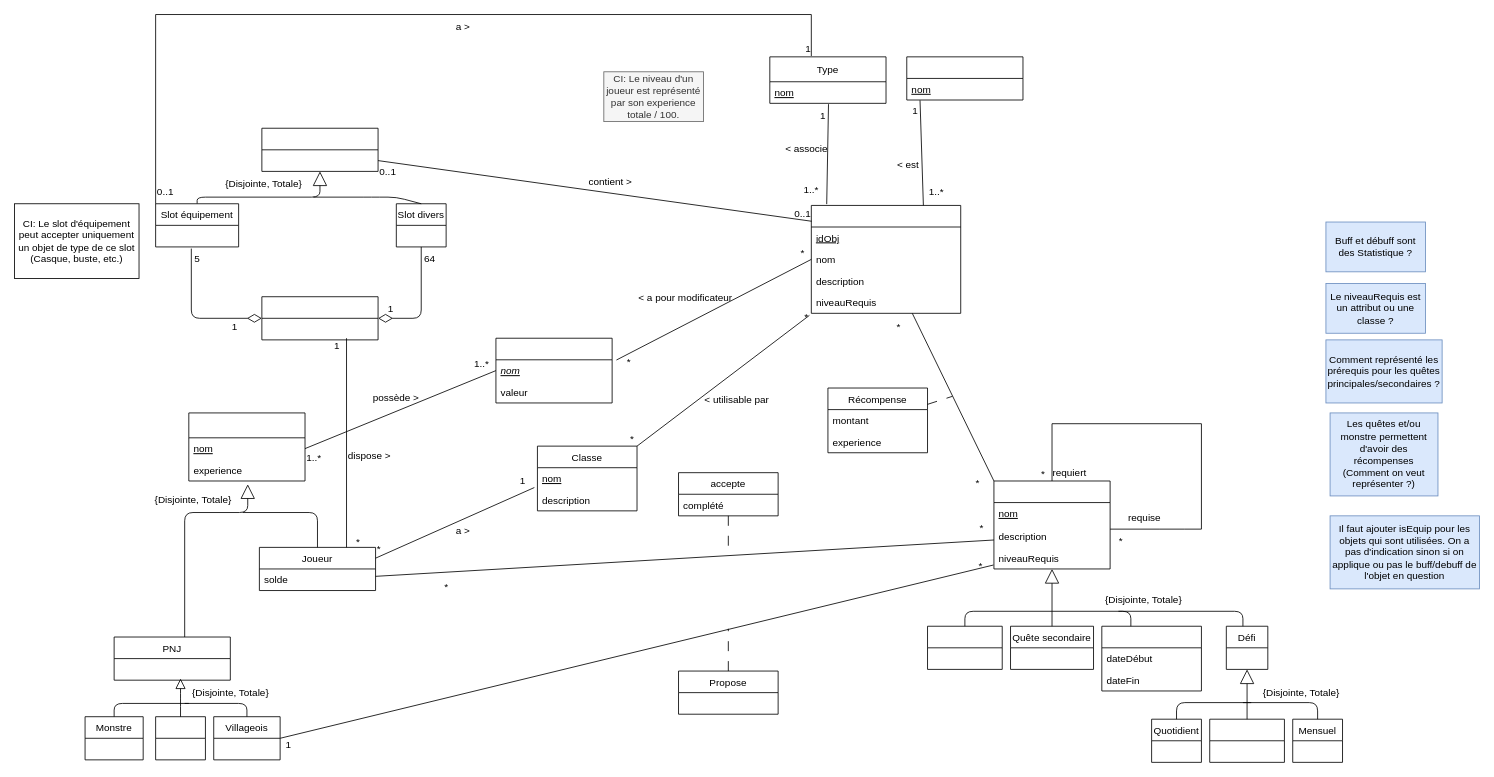
Image size: 1494x777. Some labels were removed from this diagram. The box of each missing label's shape, as (x1, y1, x2, y2) in pixels:
Evénement: (1101, 625, 1201, 691)
Hebdomadaire: (1209, 718, 1284, 762)
Inventaire: (261, 296, 378, 340)
Marchand: (155, 716, 205, 760)
Objet: (810, 205, 961, 313)
Personnage: (188, 412, 305, 481)
Quête: (993, 480, 1110, 569)
Quête principale: (927, 625, 1002, 669)
Rareté: (906, 56, 1023, 100)
Slot: (261, 127, 378, 171)
Statistique: (495, 337, 612, 403)
